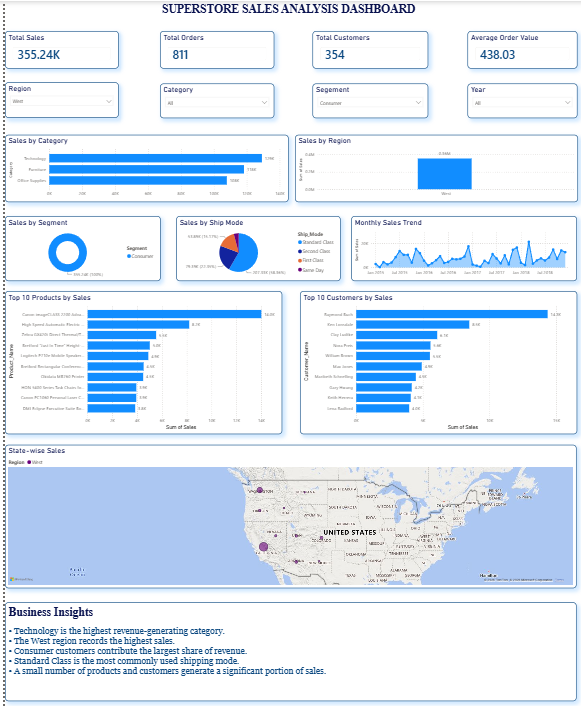

The page's visual inventory and layout, read from the dashboard file:
{"tool":"powerbi","page":{"name":"Page 1","canvas":[1600,2000],"ordinal":0},"visuals":[{"type":"cardVisual","title":"Total Sales","fields":{"Data":["superstore_clean.Total Sales"]},"box":[0,82,314,104],"z":0},{"type":"cardVisual","title":"Total Orders","fields":{"Data":["superstore_clean.Total Orders"]},"box":[430,82,316,104],"z":1000},{"type":"cardVisual","title":"Total Customers","fields":{"Data":["superstore_clean.Total Customers"]},"box":[850,82,320,104],"z":2000},{"type":"cardVisual","title":"Average Order Value","fields":{"Data":["superstore_clean.Average Order Value"]},"box":[1278,82,304,104],"z":3000},{"type":"clusteredBarChart","title":"Sales by Category","fields":{"Category":["superstore_clean.Category"],"Y":["Sum(superstore_clean.Sales)"]},"box":[0,370,784,186],"z":4000},{"type":"clusteredColumnChart","title":"Sales by Region","fields":{"Category":["superstore_clean.Region"],"Y":["Sum(superstore_clean.Sales)"]},"box":[800,370,782,186],"z":5000},{"type":"donutChart","title":"Sales by Segment","fields":{"Category":["superstore_clean.Segment"],"Y":["Sum(superstore_clean.Sales)"]},"box":[0,594,430,180],"z":6000},{"type":"pieChart","title":"Sales by Ship Mode","fields":{"Category":["superstore_clean.Ship_Mode"],"Y":["Sum(superstore_clean.Sales)"]},"box":[472,594,454,180],"z":7000},{"type":"lineChart","title":"Monthly Sales Trend","fields":{"Y":["Sum(superstore_clean.Sales)"],"Category":["superstore_clean.Order_Date.Variation.Date Hierarchy.Year","superstore_clean.Order_Date.Variation.Date Hierarchy.Month"]},"box":[958,594,624,180],"z":8000},{"type":"clusteredBarChart","title":"Top 10 Products by Sales","fields":{"Category":["superstore_clean.Product_Name"],"Y":["Sum(superstore_clean.Sales)"]},"box":[0,802,766,396],"z":9000},{"type":"clusteredBarChart","title":"Top 10 Customers by Sales","fields":{"Category":["superstore_clean.Customer_Name"],"Y":["Sum(superstore_clean.Sales)"]},"box":[816,802,766,396],"z":10000},{"type":"map","title":"State-wise Sales","fields":{"Category":["superstore_clean.State"],"Series":["superstore_clean.Region"],"Size":["Sum(superstore_clean.Sales)"]},"box":[0,1226.7,1580,396.7],"z":11000},{"type":"slicer","title":"Region","fields":{"Values":["superstore_clean.Region"]},"box":[0,226,314,98],"z":12000},{"type":"slicer","title":"Category","fields":{"Values":["superstore_clean.Category"]},"box":[430,228,316,96],"z":13000},{"type":"slicer","title":"Segement","fields":{"Values":["superstore_clean.Segment"]},"box":[850,228,320,96],"z":14000},{"type":"slicer","title":"Year","fields":{"Values":["DateTable.Year"]},"box":[1278,228,304,96],"z":15000},{"type":"textbox","box":[41.7,0,1485,58.3],"z":16000},{"type":"textbox","box":[0,1663.3,1580,273.3],"z":17000}]}

Visuals, with their boxes in screenshot pixels (x1, y1, x2, y2), scaled from the page's 1600x2000 canvas onto the 581x706 screenshot:
"Total Sales" cardVisual: {"x1": 0, "y1": 29, "x2": 114, "y2": 66}
"Total Orders" cardVisual: {"x1": 156, "y1": 29, "x2": 271, "y2": 66}
"Total Customers" cardVisual: {"x1": 309, "y1": 29, "x2": 425, "y2": 66}
"Average Order Value" cardVisual: {"x1": 464, "y1": 29, "x2": 574, "y2": 66}
"Sales by Category" clusteredBarChart: {"x1": 0, "y1": 131, "x2": 285, "y2": 196}
"Sales by Region" clusteredColumnChart: {"x1": 290, "y1": 131, "x2": 574, "y2": 196}
"Sales by Segment" donutChart: {"x1": 0, "y1": 210, "x2": 156, "y2": 273}
"Sales by Ship Mode" pieChart: {"x1": 171, "y1": 210, "x2": 336, "y2": 273}
"Monthly Sales Trend" lineChart: {"x1": 348, "y1": 210, "x2": 574, "y2": 273}
"Top 10 Products by Sales" clusteredBarChart: {"x1": 0, "y1": 283, "x2": 278, "y2": 423}
"Top 10 Customers by Sales" clusteredBarChart: {"x1": 296, "y1": 283, "x2": 574, "y2": 423}
"State-wise Sales" map: {"x1": 0, "y1": 433, "x2": 574, "y2": 573}
"Region" slicer: {"x1": 0, "y1": 80, "x2": 114, "y2": 114}
"Category" slicer: {"x1": 156, "y1": 80, "x2": 271, "y2": 114}
"Segement" slicer: {"x1": 309, "y1": 80, "x2": 425, "y2": 114}
"Year" slicer: {"x1": 464, "y1": 80, "x2": 574, "y2": 114}
textbox: {"x1": 15, "y1": 0, "x2": 554, "y2": 21}
textbox: {"x1": 0, "y1": 587, "x2": 574, "y2": 684}
